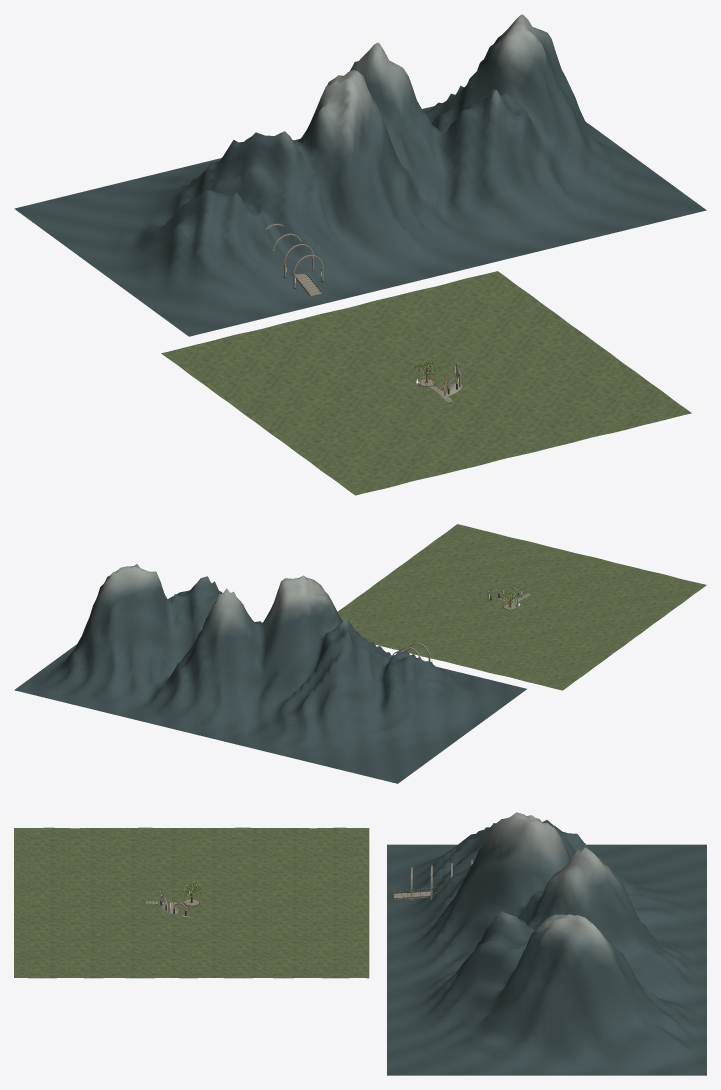
Rendered from field.glb.
3 views of the same model, one above another, from view 1: azimuth 30°, elevation 25°; view 2: azimuth 150°, elevation 25°; view 3: azimuth 270°, elevation 25° (orthographic). The views are drawn at different scales.
Parts seen in each view (by area): view 1: Garden__Mountain_horizon, Garden__Meadow; view 2: Garden__Mountain_horizon, Garden__Meadow; view 3: Garden__Mountain_horizon, Garden__Meadow.
Part boxes in pixels (left/top/right/bottom): Garden__Mountain_horizon: left=14, top=14, right=706, bottom=336; Garden__Meadow: left=161, top=271, right=691, bottom=495; Garden__Mountain_horizon: left=14, top=564, right=526, bottom=783; Garden__Meadow: left=337, top=524, right=706, bottom=690; Garden__Mountain_horizon: left=387, top=812, right=706, bottom=1075; Garden__Meadow: left=14, top=827, right=369, bottom=978.
Size of the model in its own units: 264 by 68.21 by 312.
Materials: 14 (2 with a texture image).
